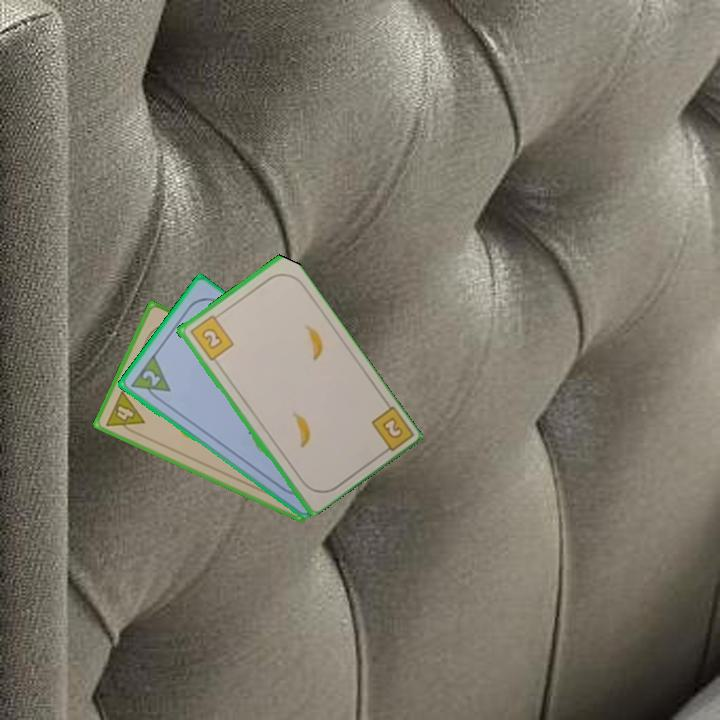2b: (367, 402, 414, 459), (186, 310, 236, 363)
2p: (126, 351, 173, 405)
4p: (102, 387, 147, 439)
